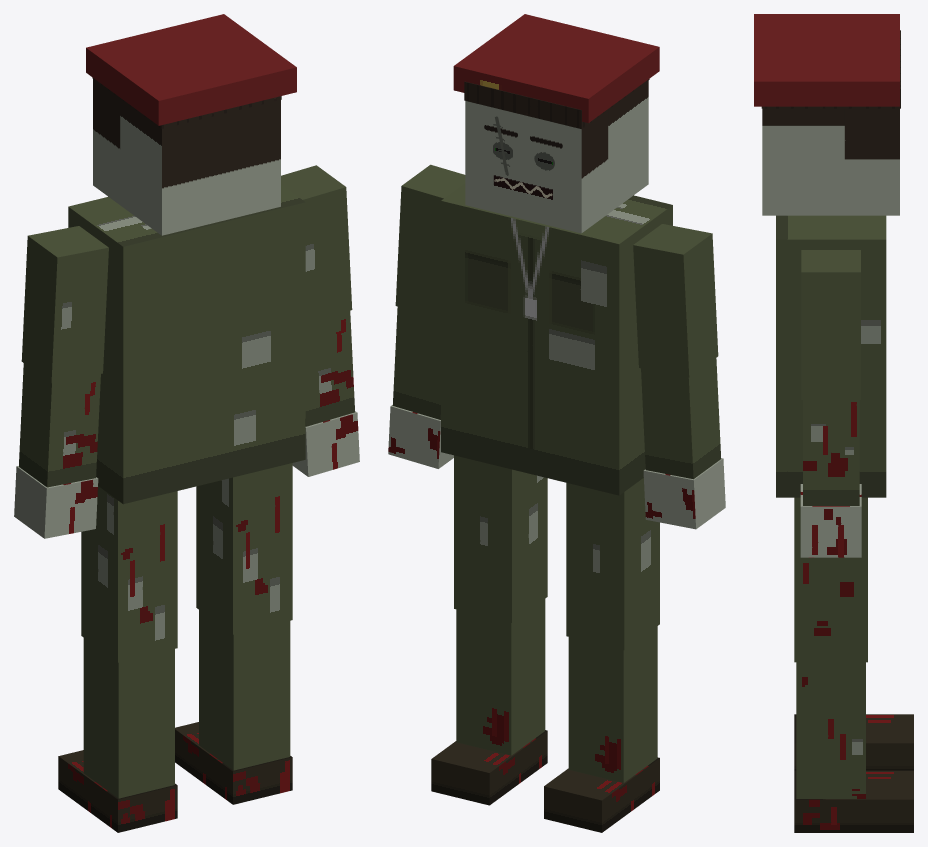
The model's file is revenant_soldier.glb.
The picture shows the model from 3 angles, left to right: view 1: azimuth 30°, elevation 25°; view 2: azimuth 150°, elevation 25°; view 3: azimuth 270°, elevation 25°; orthographic projection. The views are drawn at different scales.
Parts seen in each view (by area): view 1: block_torso, block_head, block_beret, block_thigh.L, block_thigh.R, block_shin.R, block_shin.L, block_upper_arm.L, block_forearm.L, block_upper_arm.R, block_forearm.R, block_foot.L (+4 smaller); view 2: block_torso, block_head, block_thigh.L, block_thigh.R, block_beret, block_shin.L, block_shin.R, block_upper_arm.L, block_forearm.L, block_upper_arm.R, block_foot.R, block_foot.L (+4 smaller); view 3: block_torso, block_head, block_beret, block_shin.R, block_upper_arm.R, block_thigh.R, block_forearm.R, block_foot.R, block_hand.R, block_foot.L, block_hair-buzz.
Part boxes in pixels (box(x1,y1,x2,y2)): block_torso: box(68, 184, 305, 504); block_head: box(93, 79, 280, 235); block_beret: box(86, 14, 296, 125); block_thigh.L: box(81, 486, 177, 662); block_thigh.R: box(196, 463, 292, 634); block_shin.R: box(199, 610, 290, 770); block_shin.L: box(83, 638, 174, 798); block_upper_arm.L: box(21, 226, 108, 383); block_forearm.L: box(19, 363, 100, 487); block_upper_arm.R: box(281, 165, 352, 323); block_forearm.R: box(305, 311, 354, 426); block_foot.L: box(58, 750, 177, 832); block_torso: box(441, 183, 672, 495); block_head: box(465, 80, 648, 233); block_thigh.L: box(566, 478, 659, 650); block_thigh.R: box(454, 455, 547, 622); block_beret: box(453, 14, 659, 123); block_shin.L: box(568, 626, 657, 782); block_shin.R: box(456, 599, 545, 755); block_upper_arm.L: box(633, 224, 718, 377); block_forearm.L: box(641, 358, 721, 479); block_upper_arm.R: box(395, 164, 465, 319); block_foot.R: box(431, 730, 547, 805); block_foot.L: box(544, 757, 659, 832); block_torso: box(776, 215, 886, 497); block_head: box(762, 108, 899, 215); block_beret: box(754, 14, 899, 106); block_shin.R: box(796, 662, 865, 798); block_upper_arm.R: box(801, 250, 860, 399); block_thigh.R: box(794, 497, 867, 662); block_forearm.R: box(803, 400, 859, 505); block_foot.R: box(794, 770, 913, 832); block_hand.R: box(800, 484, 861, 557); block_foot.L: box(794, 714, 913, 770); block_hair-buzz: box(761, 30, 900, 108).
Size of the model in its own units: 0.7948 by 1.79 by 0.348.
Materials: 1 (1 with a texture image).
